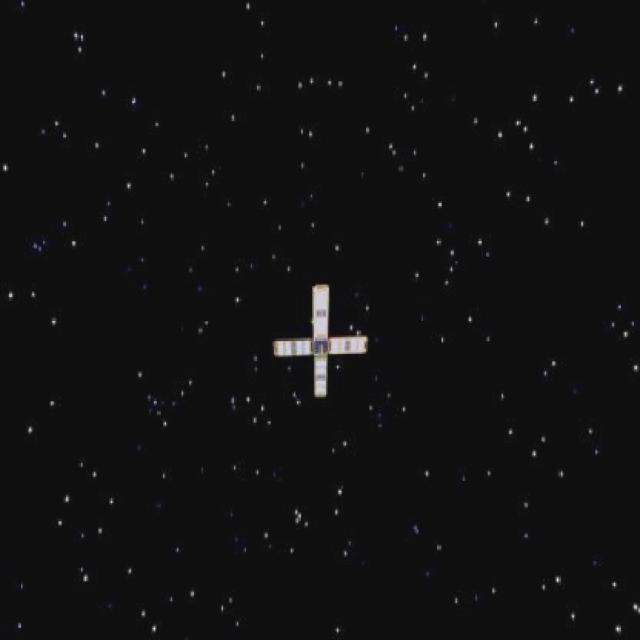satellite: (267, 271, 385, 412)
